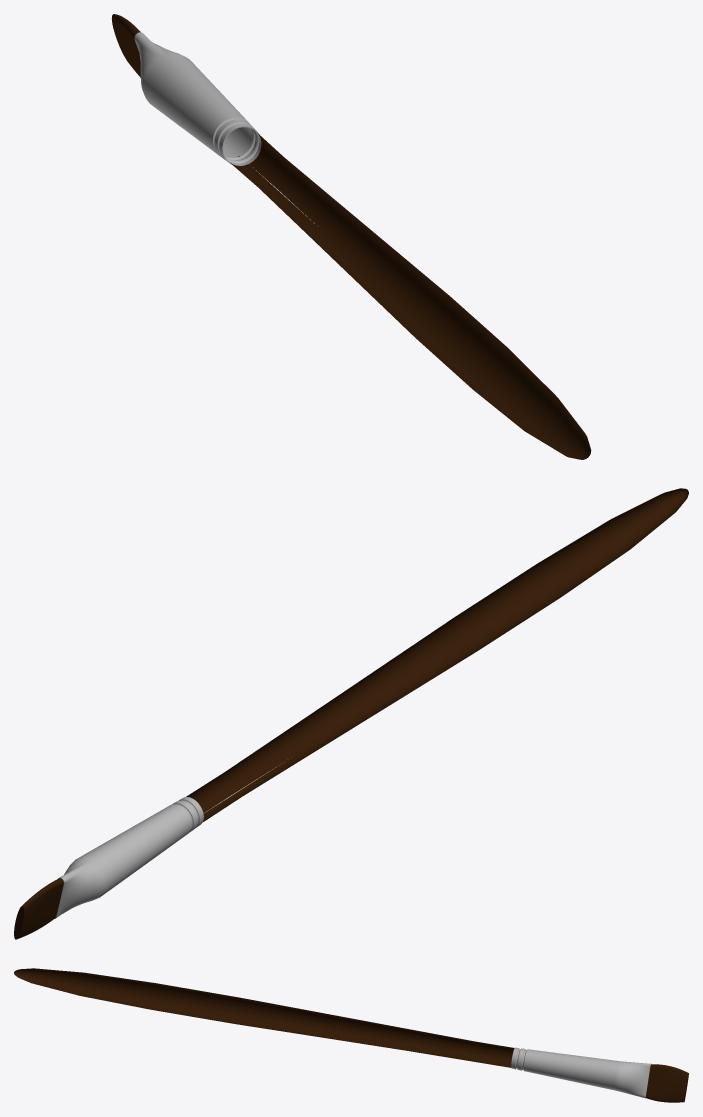
The model's file is painting_brush_pivot.glb.
The picture shows the model from 3 angles, top to bottom: view 1: azimuth 30°, elevation 25°; view 2: azimuth 150°, elevation 25°; view 3: azimuth 270°, elevation 25°; orthographic projection. The views are drawn at different scales.
Visible parts, largest first — view 1: Object_3, Object_2; view 2: Object_3, Object_2; view 3: Object_3, Object_2.
Part boxes in pixels (left/top/right/bottom): Object_3: left=111, top=14, right=591, bottom=459; Object_2: left=134, top=32, right=261, bottom=165; Object_3: left=14, top=488, right=688, bottom=939; Object_2: left=54, top=797, right=203, bottom=918; Object_3: left=14, top=968, right=688, bottom=1102; Object_2: left=511, top=1047, right=650, bottom=1098.
Size of the model in its own units: 61.2 by 43.15 by 318.
